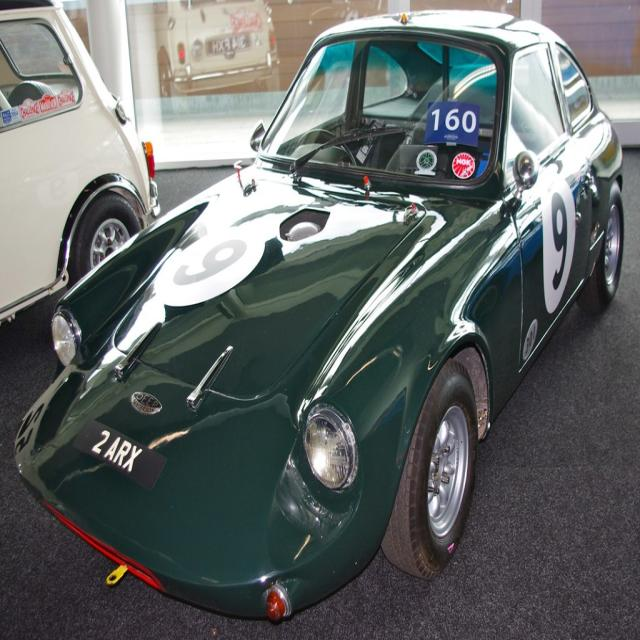car: (13, 10, 623, 621)
